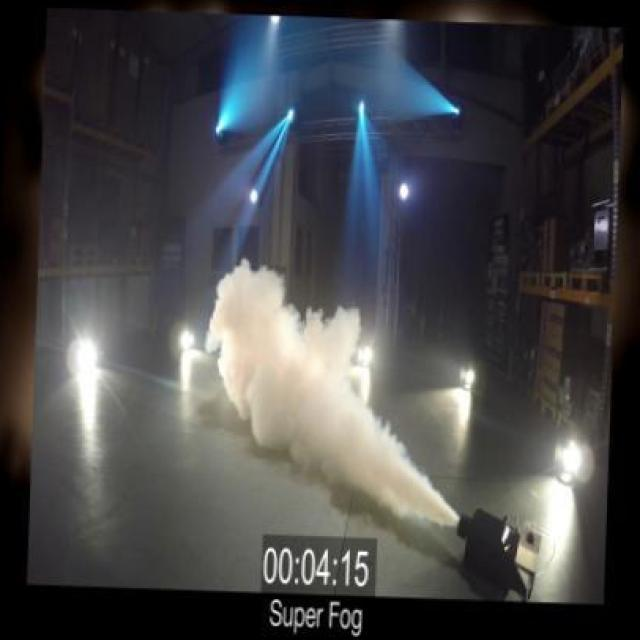fire: (201, 253, 436, 526)
